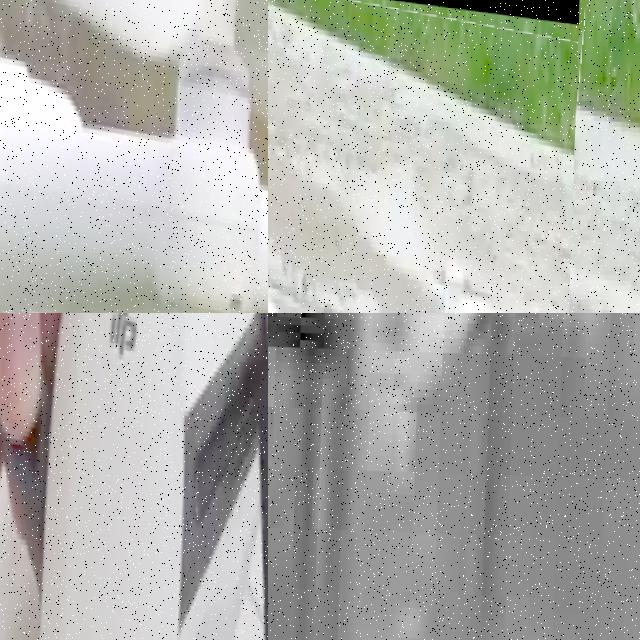drone: (268, 0, 580, 313), (0, 313, 268, 640), (0, 0, 268, 313)
